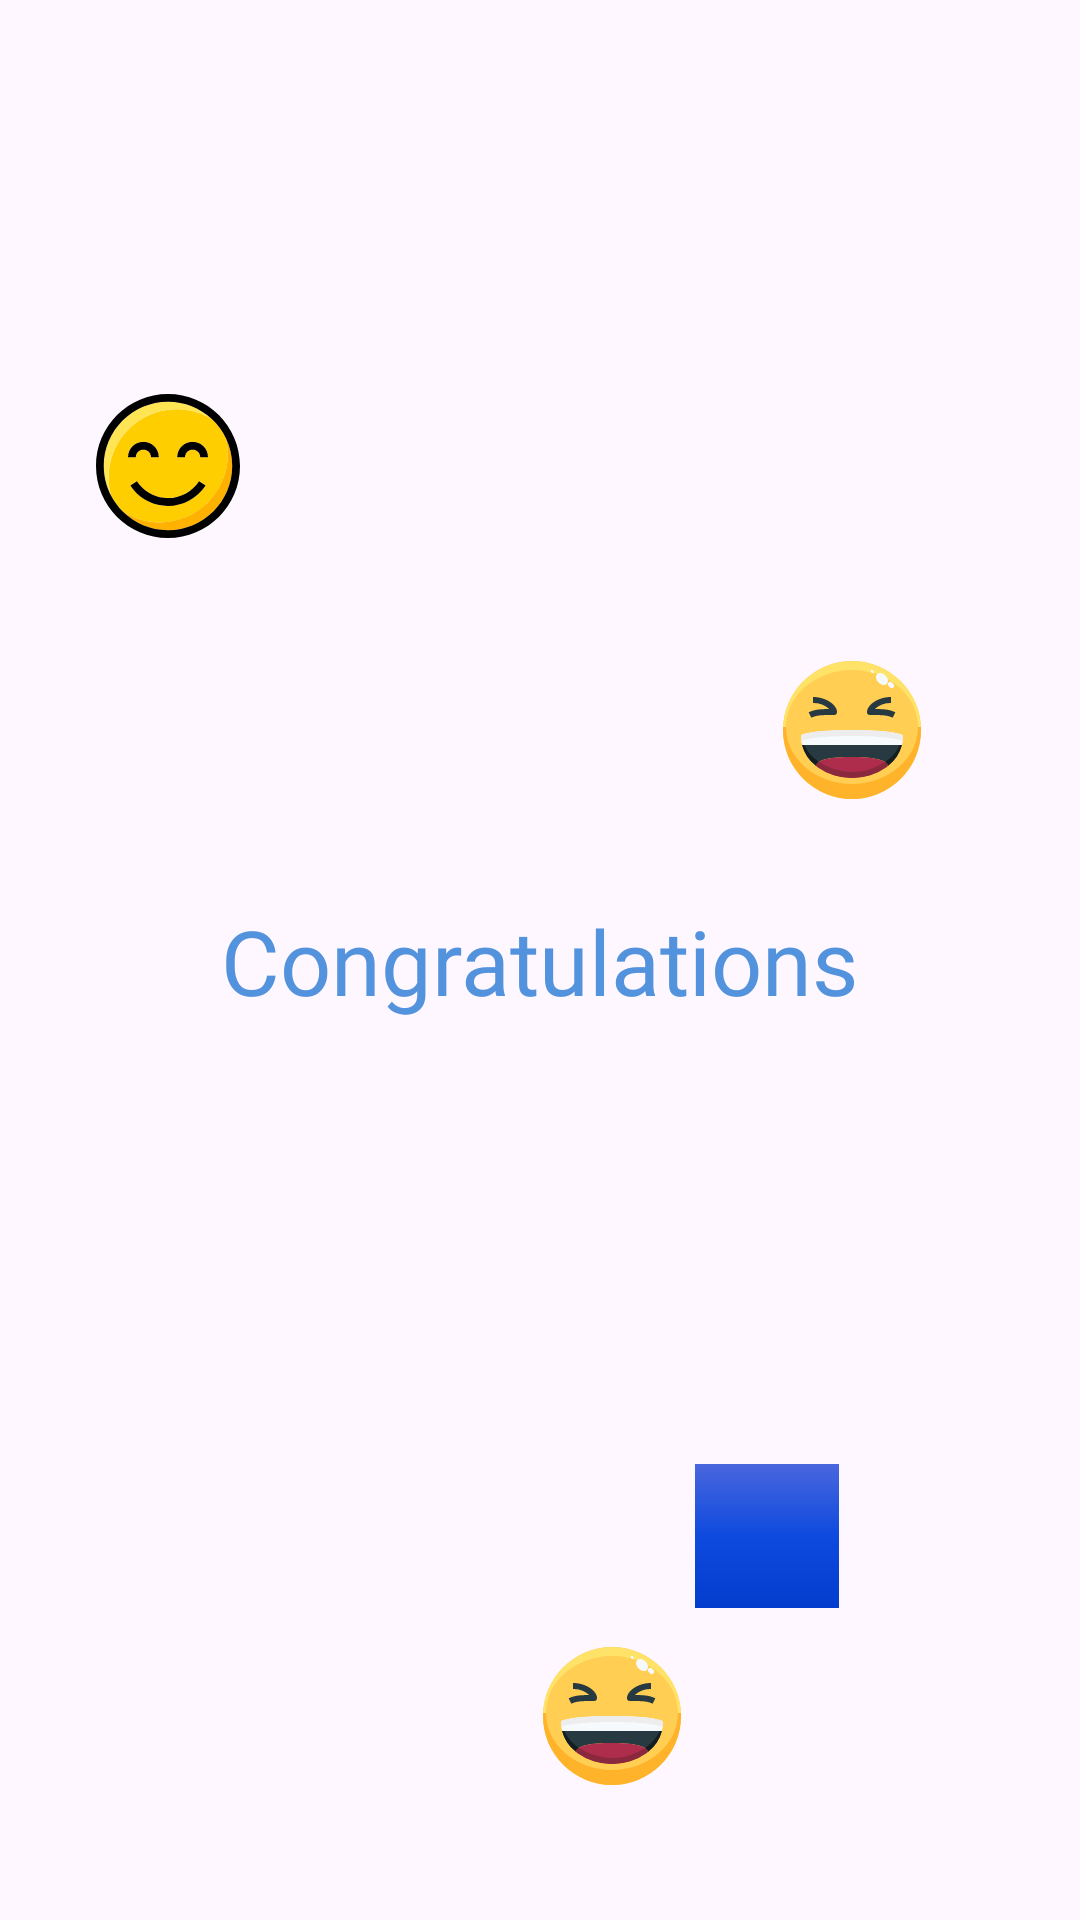

Icons on this 1080x1920 Android screen, each with the point to tap as (x,y):
haha: (852,730), (612,1716)
happy: (168,466)
